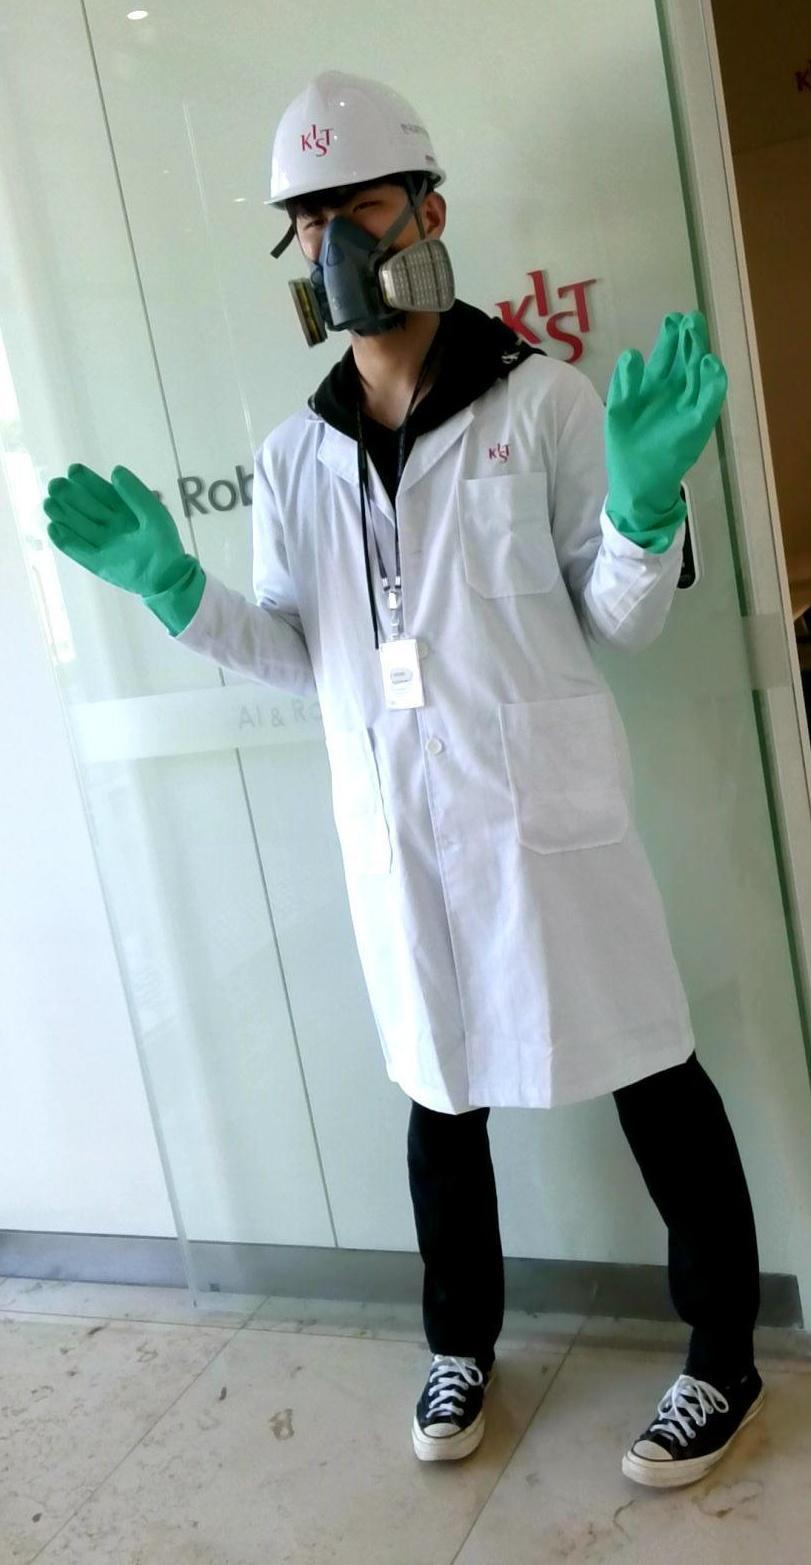lab_coat: (309, 364, 597, 1106)
